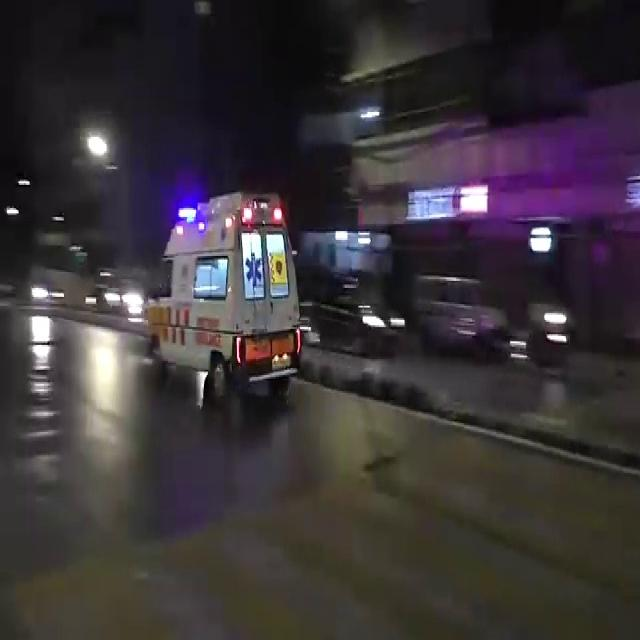ambulance: (142, 188, 300, 405)
